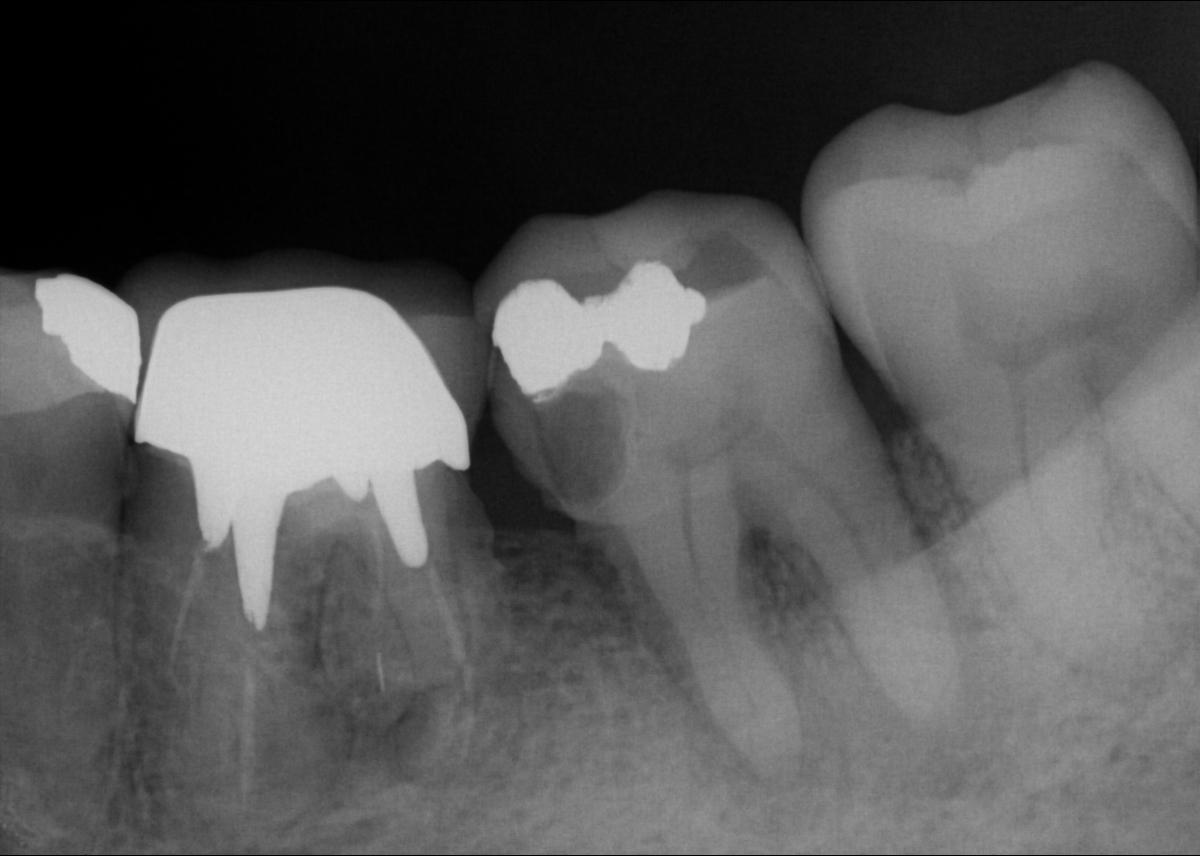Dental Caries: (679, 510, 1017, 840)
Furcation Involvement: (344, 693, 433, 783)
